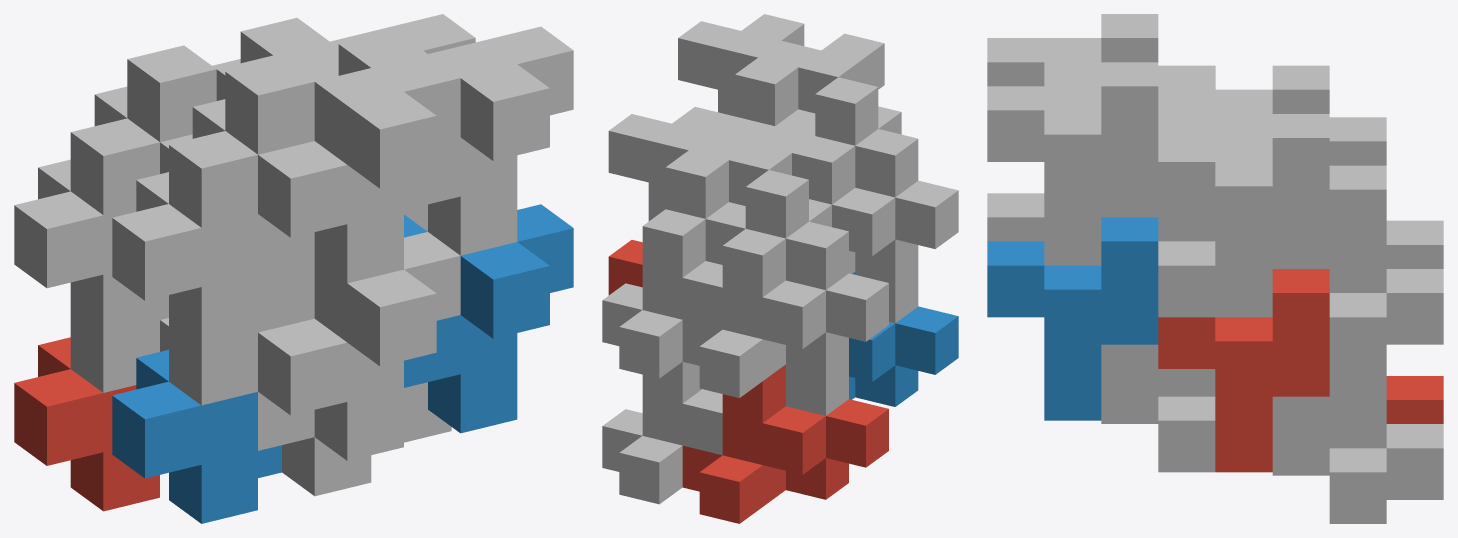
Rendered from tiling.obj.
The picture shows the model from 3 angles, left to right: view 1: azimuth 30°, elevation 25°; view 2: azimuth 150°, elevation 25°; view 3: azimuth 270°, elevation 25°; orthographic projection. The views are drawn at different scales.
Visible parts, largest first — view 1: copy_2_domain_4, copy_2_domain_2, copy_2_domain_8, copy_2_domain_6, copy_1_domain_4, copy_1_domain_2, copy_2_domain_3, copy_1_domain_3, copy_1_domain_1, copy_1_domain_6, copy_2_domain_1, copy_2_domain_7 (+1 smaller); view 2: copy_1_domain_3, copy_1_domain_1, copy_1_domain_7, copy_2_domain_4, copy_1_domain_4, copy_2_domain_3, copy_2_domain_7, copy_1_domain_5, copy_2_domain_8, copy_1_domain_2, copy_2_domain_1, copy_2_domain_5 (+2 smaller); view 3: copy_2_domain_7, copy_2_domain_8, copy_2_domain_6, copy_2_domain_5, copy_1_domain_5, copy_1_domain_7, copy_1_domain_6, copy_1_domain_8, copy_2_domain_4, copy_2_domain_3, copy_1_domain_3, copy_2_domain_2 (+2 smaller).
Part boxes in pixels (bbox=[...]): copy_2_domain_4: bbox=[169, 54, 460, 283]; copy_2_domain_2: bbox=[169, 232, 460, 460]; copy_2_domain_8: bbox=[338, 26, 573, 255]; copy_2_domain_6: bbox=[404, 204, 573, 433]; copy_1_domain_4: bbox=[112, 99, 257, 346]; copy_1_domain_2: bbox=[112, 349, 281, 523]; copy_2_domain_3: bbox=[70, 41, 338, 215]; copy_1_domain_3: bbox=[14, 86, 159, 333]; copy_1_domain_1: bbox=[14, 337, 159, 511]; copy_1_domain_6: bbox=[258, 382, 451, 496]; copy_2_domain_1: bbox=[70, 295, 168, 392]; copy_2_domain_7: bbox=[240, 14, 475, 63]; copy_1_domain_3: bbox=[682, 229, 888, 397]; copy_1_domain_1: bbox=[682, 364, 888, 523]; copy_1_domain_7: bbox=[602, 209, 722, 378]; copy_2_domain_4: bbox=[758, 33, 918, 197]; copy_1_domain_4: bbox=[792, 136, 958, 281]; copy_2_domain_3: bbox=[689, 126, 848, 289]; copy_2_domain_7: bbox=[608, 107, 745, 264]; copy_1_domain_5: bbox=[602, 361, 722, 504]; copy_2_domain_8: bbox=[678, 14, 815, 135]; copy_1_domain_2: bbox=[849, 272, 958, 406]; copy_2_domain_1: bbox=[786, 357, 848, 415]; copy_2_domain_5: bbox=[608, 240, 642, 295]; copy_2_domain_7: bbox=[1158, 114, 1329, 317]; copy_2_domain_8: bbox=[987, 62, 1158, 265]; copy_2_domain_6: bbox=[987, 217, 1158, 420]; copy_2_domain_5: bbox=[1158, 269, 1329, 472]; copy_1_domain_5: bbox=[1272, 369, 1443, 523]; copy_1_domain_7: bbox=[1272, 165, 1443, 368]; copy_1_domain_6: bbox=[1101, 344, 1215, 472]; copy_1_domain_8: bbox=[1101, 114, 1215, 317]; copy_2_domain_4: bbox=[987, 14, 1158, 86]; copy_2_domain_3: bbox=[1158, 65, 1329, 137]; copy_1_domain_3: bbox=[1329, 117, 1443, 268]; copy_2_domain_2: bbox=[987, 193, 1044, 241].
Bounding box in the file's own units: 7 × 8 × 8.
